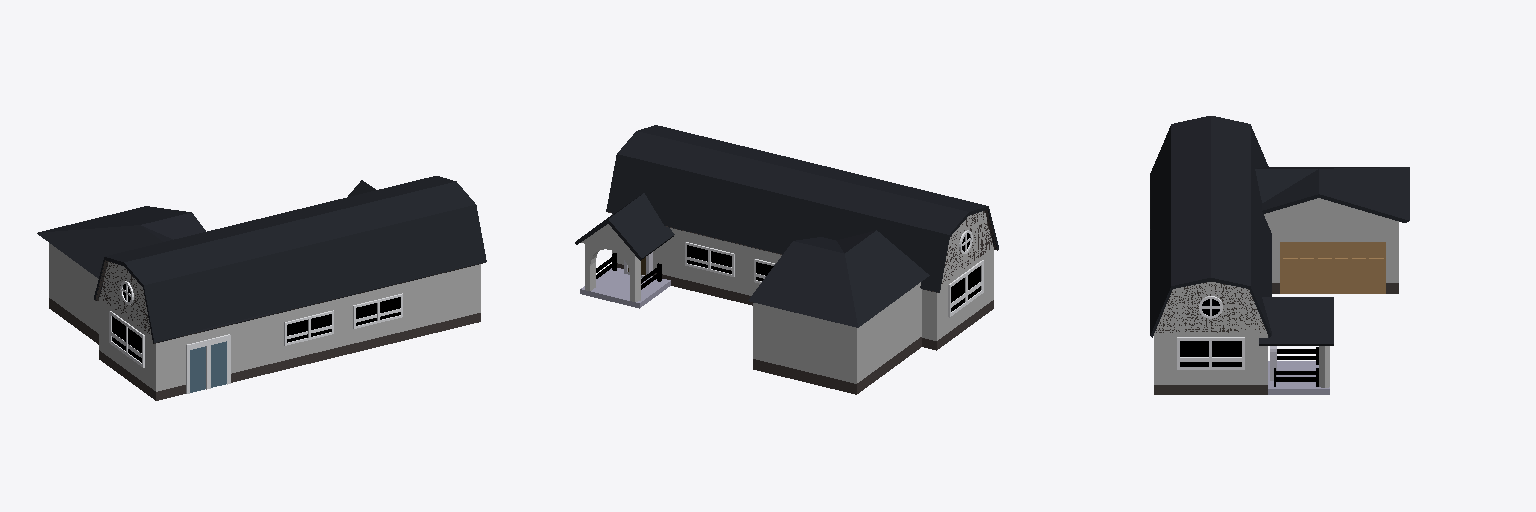
Rendered from House3.model.obj.
3 views of the same model, side by side, from view 1: azimuth 30°, elevation 25°; view 2: azimuth 150°, elevation 25°; view 3: azimuth 270°, elevation 25° (orthographic).
Size of the model in its own units: 6.76 by 2.3 by 4.56.